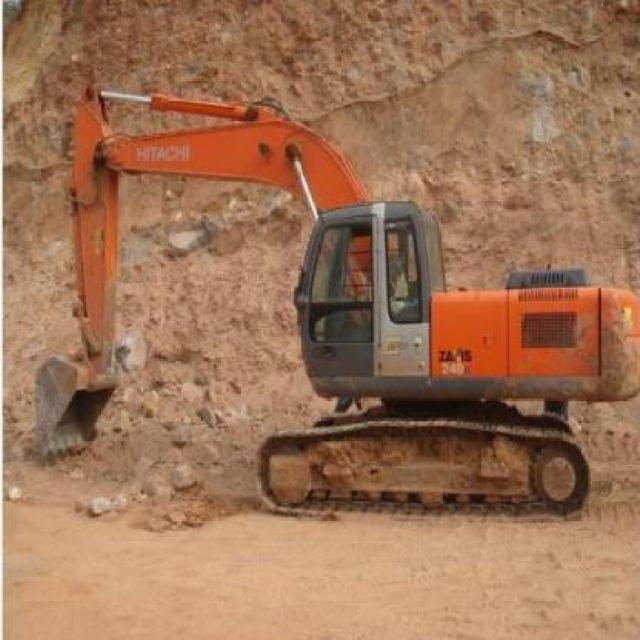Excavator: (32, 78, 639, 522)
